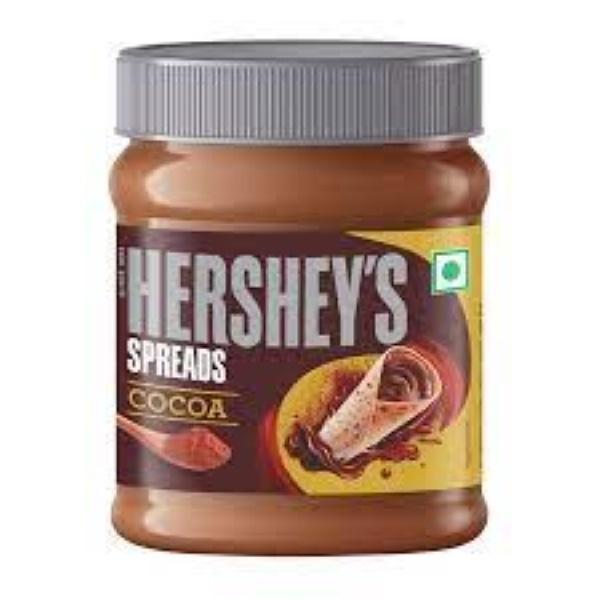Hershey-s: (93, 34, 515, 565)
